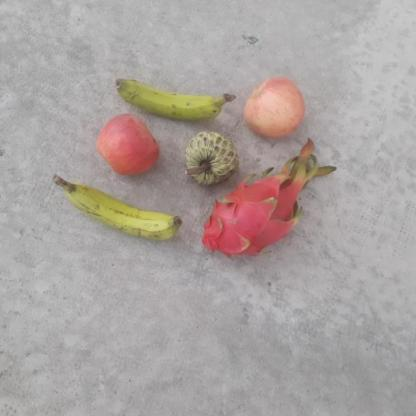annona: (181, 131, 238, 187)
apple: (96, 111, 161, 174), (244, 76, 306, 138)
banana: (64, 179, 183, 243), (112, 73, 223, 123)
pitaya: (199, 179, 300, 261)
